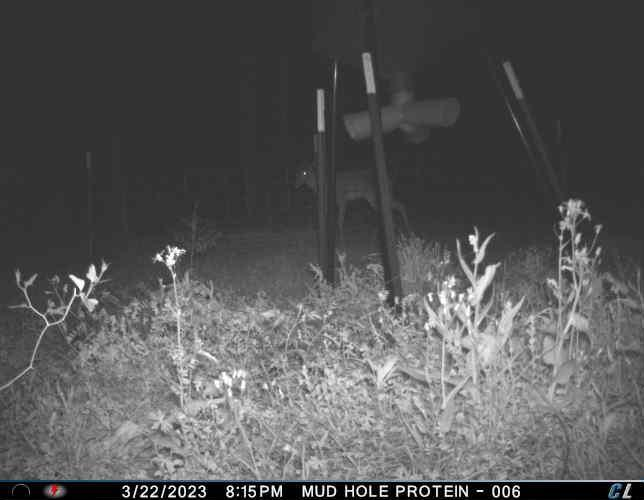Deer: (292, 156, 419, 251)
